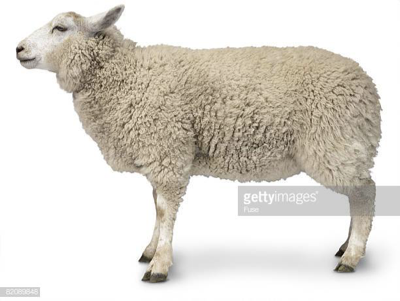koyun: (15, 12, 380, 283)
